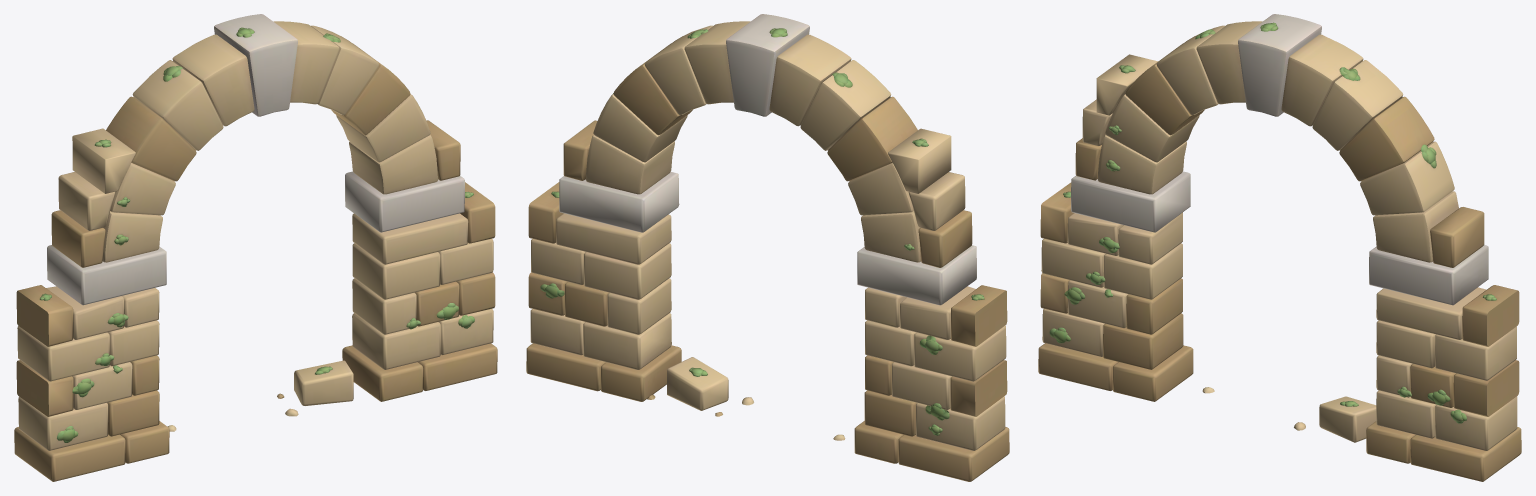
File: arch_ruin.glb
3 renders of one model, left to right at view 1: azimuth 30°, elevation 25°; view 2: azimuth 150°, elevation 25°; view 3: azimuth 330°, elevation 25°, orthographic.
Visible parts, largest first — view 1: ruin-archway_body; view 2: ruin-archway_body; view 3: ruin-archway_body.
Boxes of the visible parts, box(x1,y1,x2,y2) form: ruin-archway_body: box(14, 14, 497, 481); ruin-archway_body: box(526, 14, 1009, 481); ruin-archway_body: box(1038, 14, 1521, 481).
Size of the model in its own units: 4 by 3.32 by 0.62.
1 material, 1 textured.
